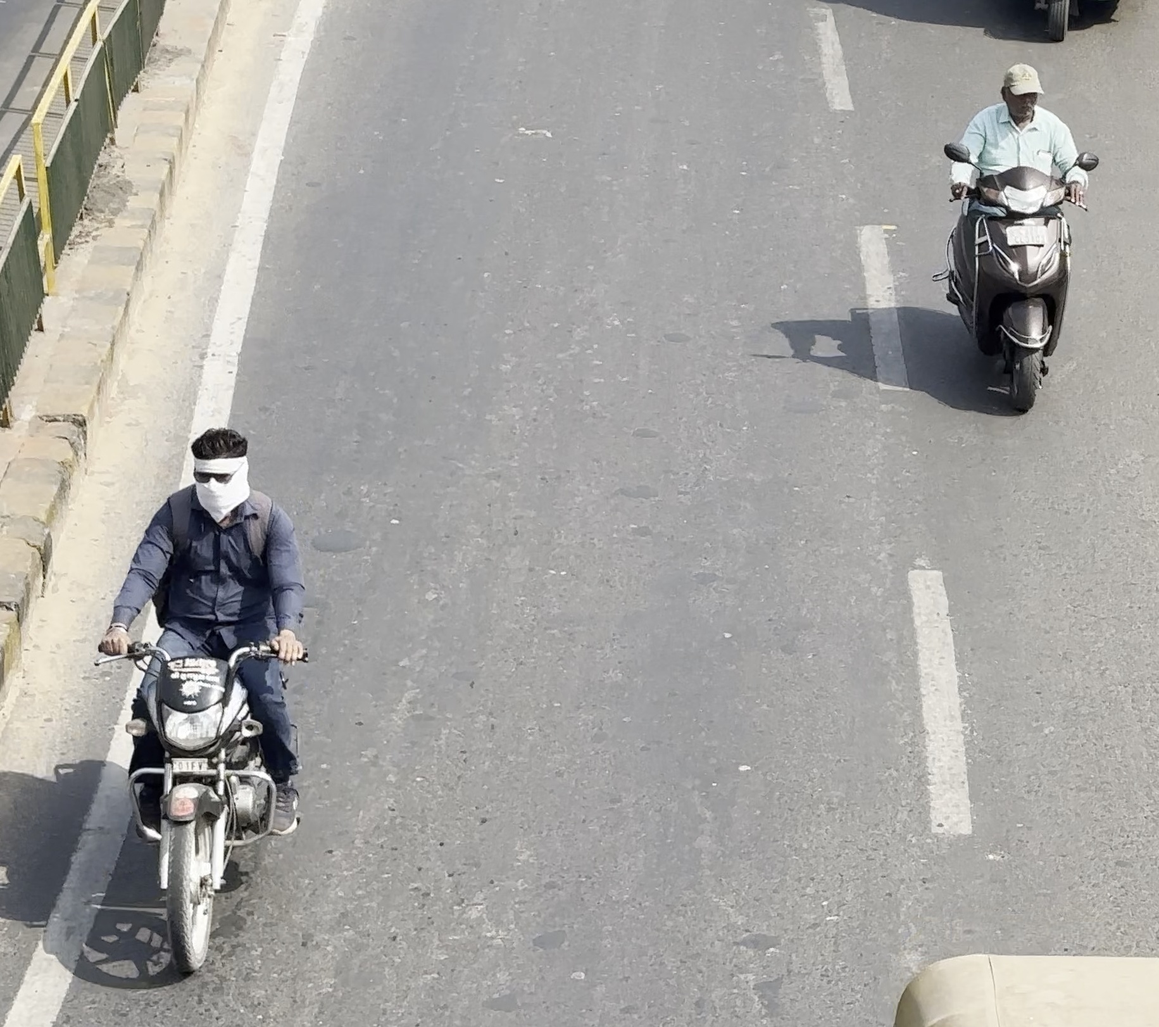BikeWithRider: (89, 423, 312, 974), (922, 60, 1102, 415)
NoHelmet: (183, 426, 258, 520), (994, 63, 1050, 123)
